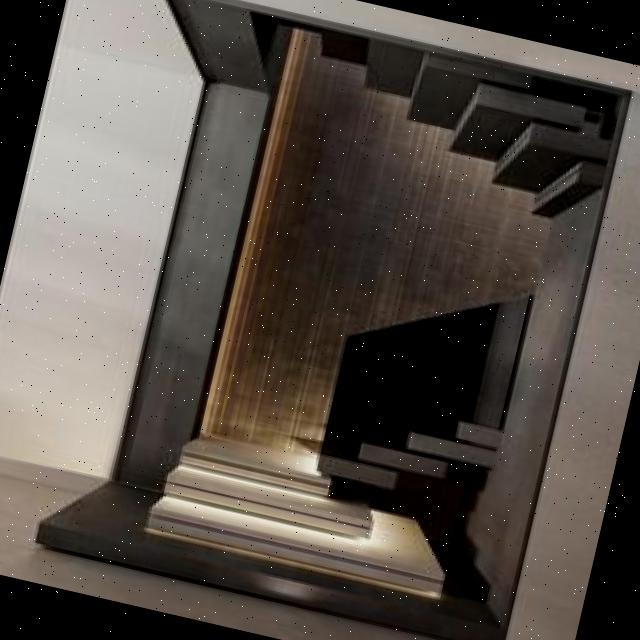stairs: (140, 420, 466, 600)
